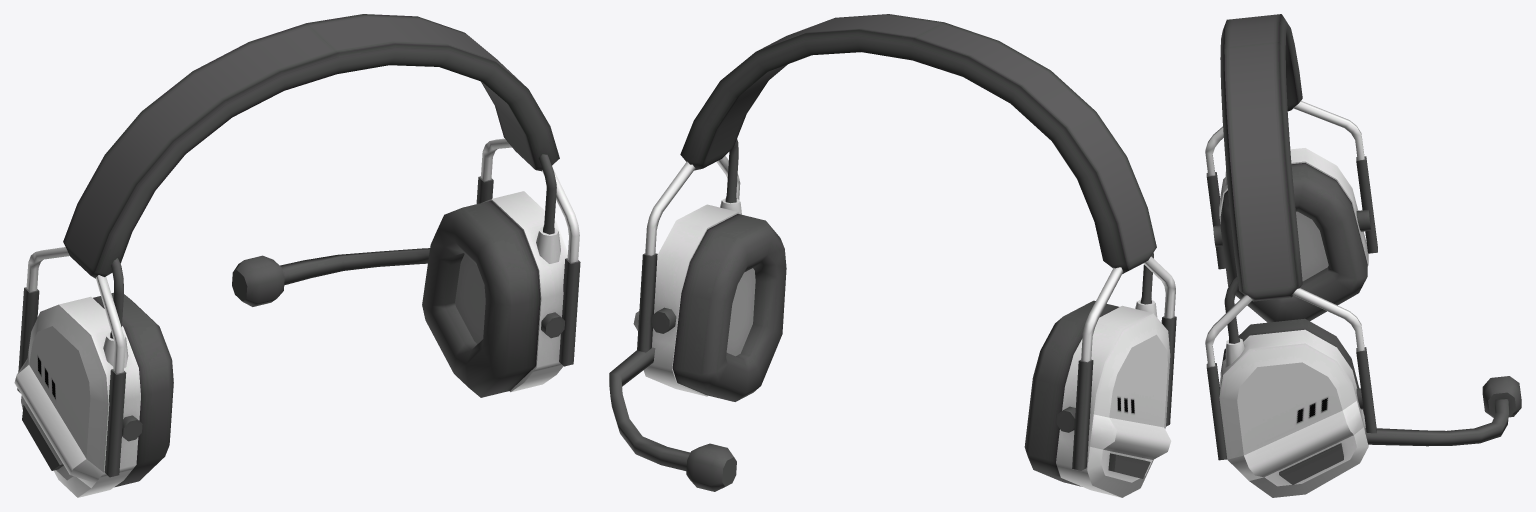
The model's file is IG_Headset_LV1V2.fbx.
3 renders of one model, left to right at view 1: azimuth 30°, elevation 25°; view 2: azimuth 150°, elevation 25°; view 3: azimuth 270°, elevation 25°, orthographic. The views are drawn at different scales.
Visible parts, largest first — view 1: Headset_1; view 2: Headset_1; view 3: Headset_1.
Part boxes in pixels (<box>): Headset_1: <box>14,14,580,497</box>; Headset_1: <box>609,14,1176,497</box>; Headset_1: <box>1205,14,1521,497</box>.
Size of the model in its own units: 0.7708 by 0.6098 by 0.4888.
